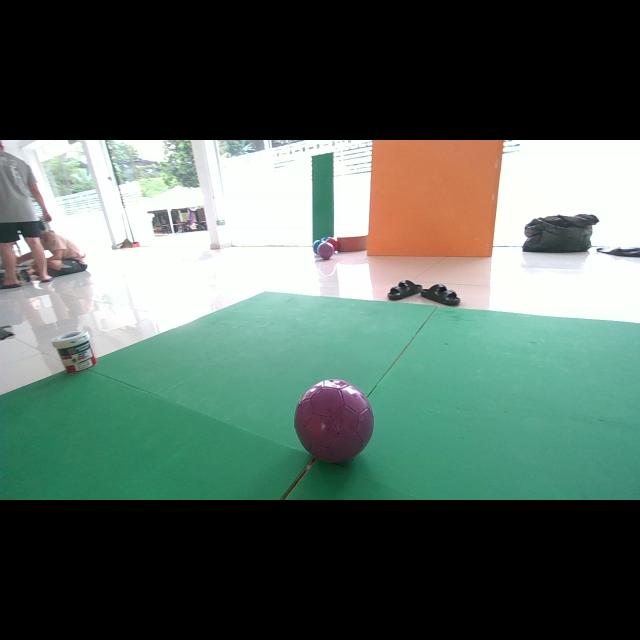P: (294, 379, 374, 462)
